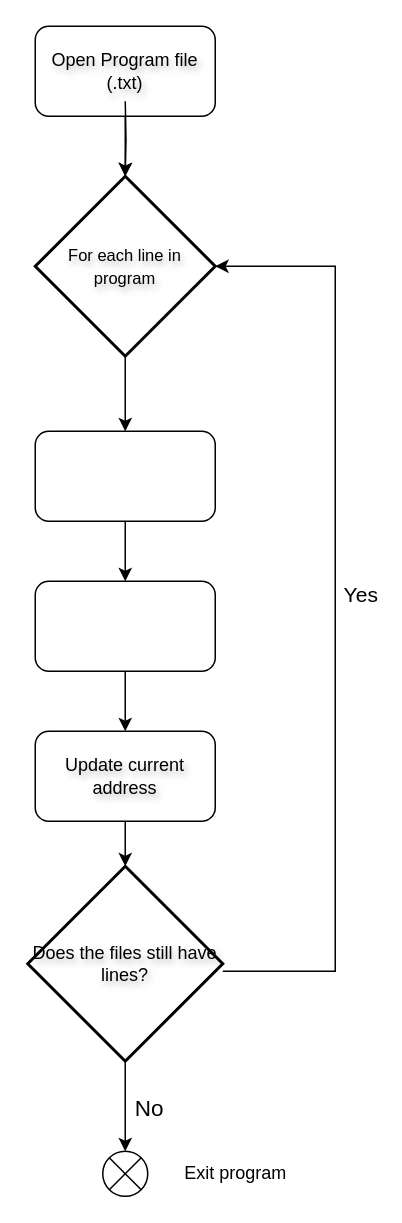
Image size: 402x1223. Some labels were removed from this diagram. The shapes that lost their labels are listed below. From the top down, each one's centre as x and y in pixels, then its label:
At (x=124, y=475): "Translate Instructions into opcode & args".
At (x=124, y=625): "Store in memory at current addr".
